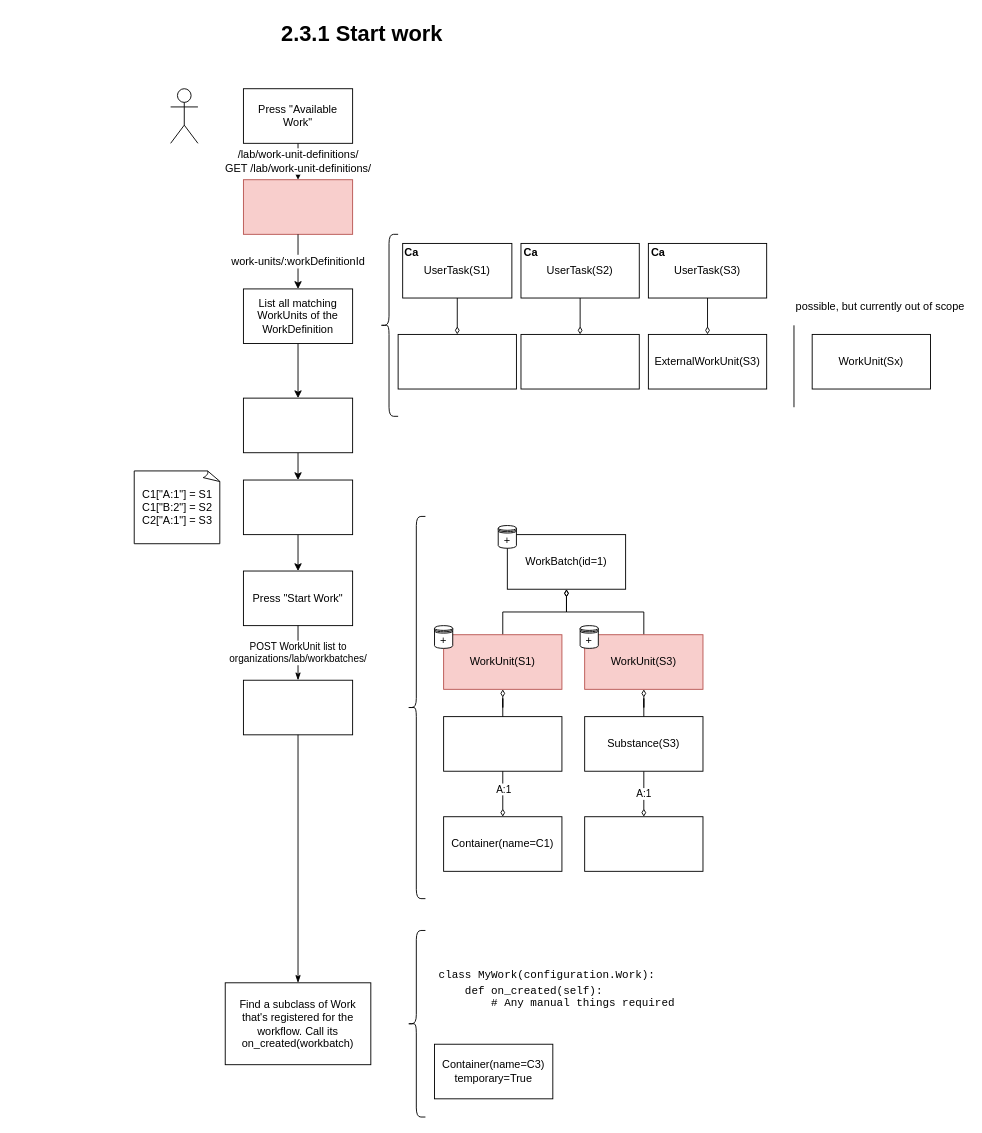
This 982x1133 diagram has some shape labels left out. The shapes that lost their labels are listed below. From the top down, each one's centre as x and y in pixels, then its label:
(x=184, y=115): RE
(x=298, y=206): Select a WorkDefinition
(x=456, y=361): ExternalWorkUnit(S1)
(x=579, y=361): ExternalWorkUnit(S2)
(x=298, y=425): A list of all substances waiting is shown
(x=298, y=507): Select S1@C1 and S3@C2
(x=298, y=707): Create a WorkBatch
(x=502, y=743): Substance(S1)
(x=643, y=843): Container(name=C2)
